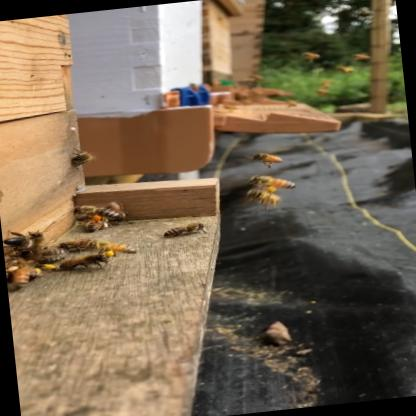bee: (0, 209, 146, 290), (201, 162, 303, 214), (63, 196, 134, 233), (45, 138, 106, 177), (154, 213, 214, 248), (247, 139, 296, 170), (0, 151, 16, 210)
